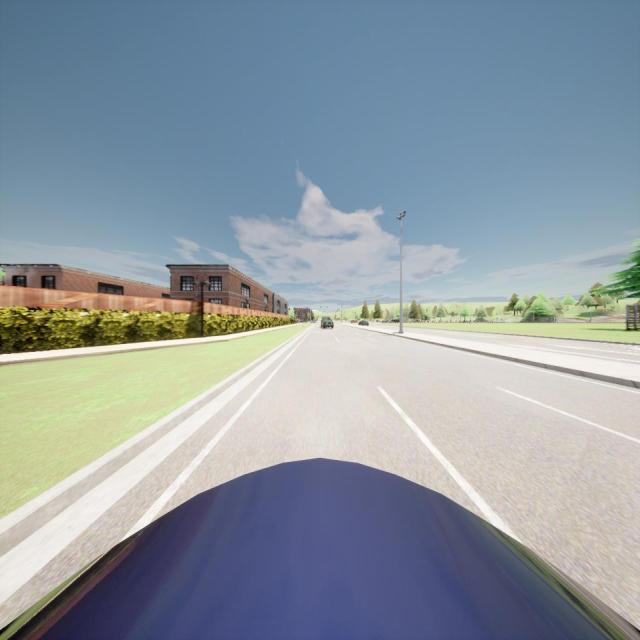Vehicle: (0, 455, 640, 640), (321, 316, 334, 329), (358, 320, 369, 326), (349, 319, 358, 323)
